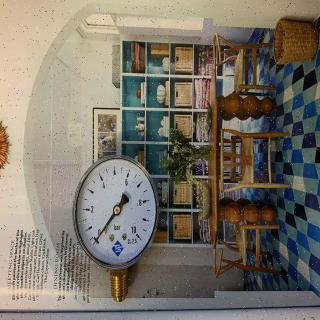gauge: (70, 154, 162, 270), (88, 230, 102, 250), (129, 225, 144, 243), (112, 206, 120, 214), (94, 234, 99, 242)
